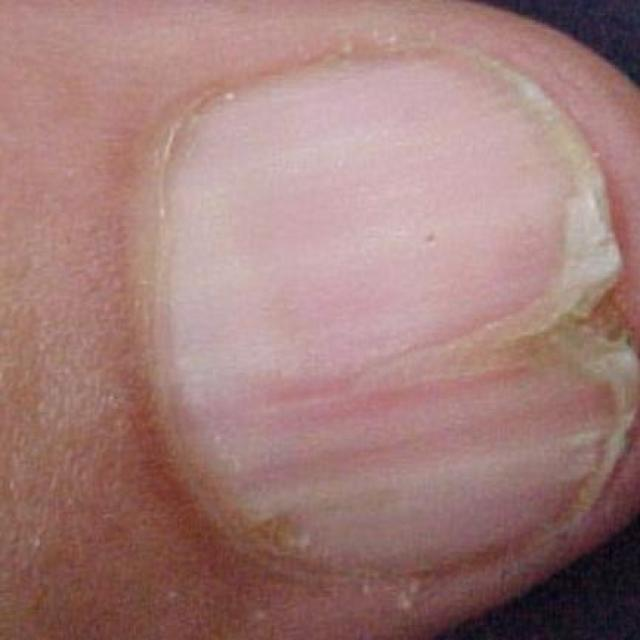Nail: (160, 41, 639, 584)
